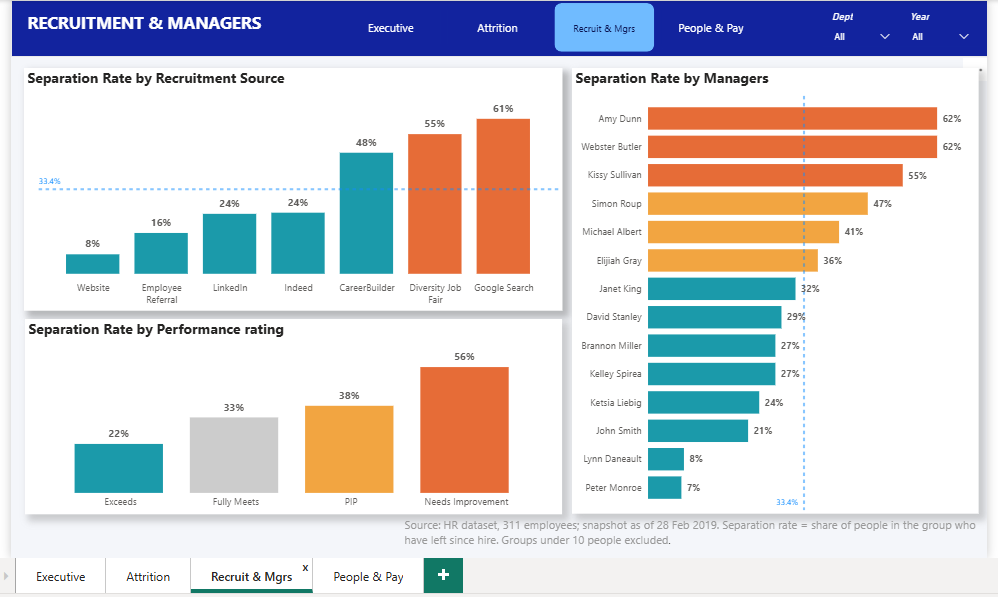

The page's visual inventory and layout, read from the dashboard file:
{"tool":"powerbi","page":{"name":"Recruit & Mgrs","canvas":[1400,800],"ordinal":2},"visuals":[{"type":"shape","box":[0,0,1400,81.4],"z":0},{"type":"textbox","box":[18.9,10.2,414.3,52.3],"z":1000},{"type":"slicer","fields":{"Values":["HRDataset.Department"]},"box":[1164.2,10,111.8,57.3],"z":2000},{"type":"slicer","fields":{"Values":["DimDate.Year"]},"box":[1275.6,10.2,113.3,57.3],"z":3000},{"type":"pageNavigator","box":[472.7,4.5,605.2,70.8],"z":4000},{"type":"clusteredColumnChart","title":"Separation Rate by Recruitment Source","fields":{"Category":["HRDataset.RecruitmentSource"],"Y":["_measures.Separation Rate"]},"box":[18.9,97.6,771.7,348],"z":5000},{"type":"clusteredColumnChart","title":"Separation Rate by Performance rating","fields":{"Category":["HRDataset.PerformanceScore"],"Y":["_measures.Attrition Rate"]},"box":[20.5,456.7,770.1,280.3],"z":6000},{"type":"clusteredBarChart","title":"Separation Rate by Managers","fields":{"Category":["HRDataset.ManagerName"],"Y":["_measures.Attrition Rate"]},"box":[804.7,97.6,582.7,639.4],"z":7000},{"type":"textbox","box":[559.1,737,840.9,63],"z":8000}]}

Visuals, with their boxes on the page's 1400x800 design canvas (x1, y1, x2, y2). These are canvas units, not pixel positions in the 998x597 screenshot, which may show the page scaled, cropped or inside an application window:
shape: <region>0, 0, 1400, 81</region>
textbox: <region>19, 10, 433, 62</region>
slicer - HRDataset.Department: <region>1164, 10, 1276, 67</region>
slicer - DimDate.Year: <region>1276, 10, 1389, 68</region>
pageNavigator: <region>473, 4, 1078, 75</region>
"Separation Rate by Recruitment Source" clusteredColumnChart: <region>19, 98, 791, 446</region>
"Separation Rate by Performance rating" clusteredColumnChart: <region>20, 457, 791, 737</region>
"Separation Rate by Managers" clusteredBarChart: <region>805, 98, 1387, 737</region>
textbox: <region>559, 737, 1400, 800</region>
